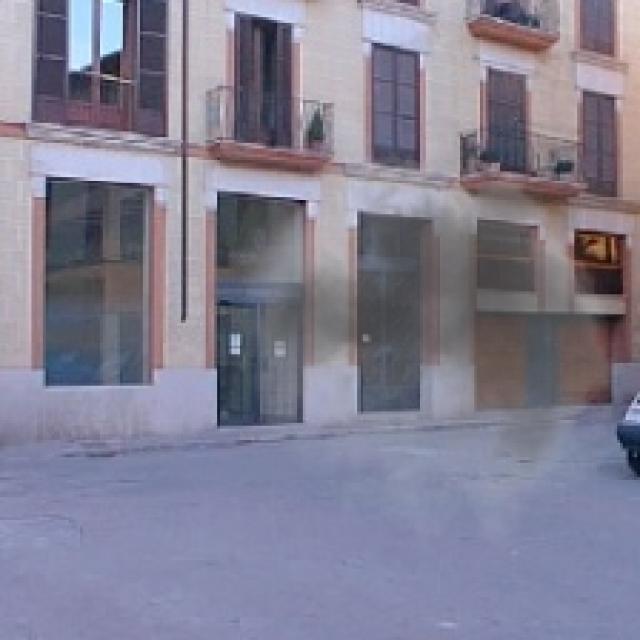smoke: (229, 135, 637, 554)
